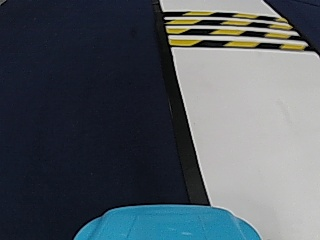bump: (171, 12, 288, 51)
